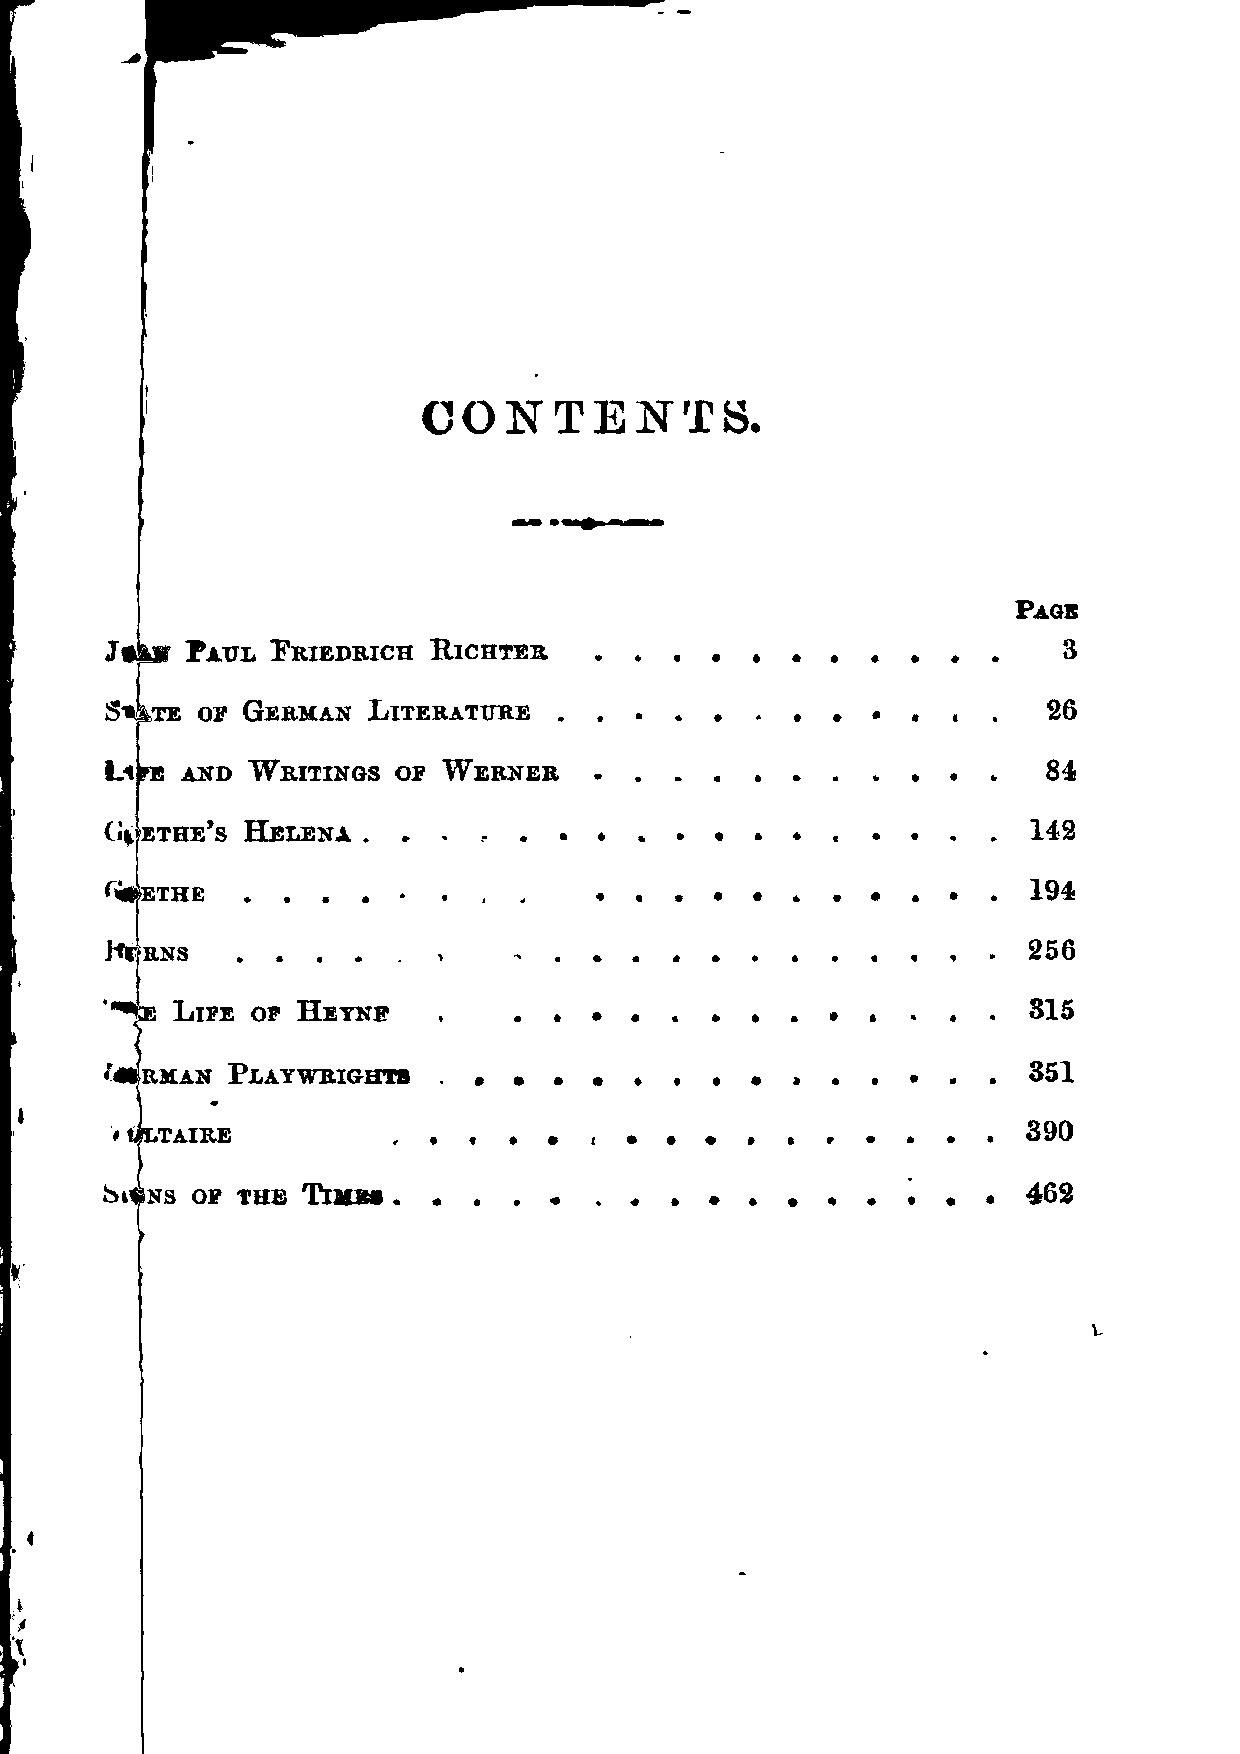TOC_chapter: (102, 632, 564, 676), (97, 688, 539, 729), (90, 756, 552, 789), (97, 1053, 423, 1094), (103, 811, 360, 849), (101, 1174, 382, 1209), (111, 994, 382, 1027), (114, 1114, 238, 1147), (102, 871, 209, 905), (103, 935, 189, 968)
TOC_pagenumber: (1027, 811, 1074, 849), (1025, 935, 1082, 966), (1031, 1184, 1084, 1215), (1031, 871, 1082, 902), (1025, 994, 1078, 1021), (1044, 687, 1082, 721), (1027, 1057, 1074, 1084), (1044, 754, 1082, 785), (1025, 1119, 1075, 1139), (1053, 632, 1080, 666)
chapter: (421, 384, 768, 442)
